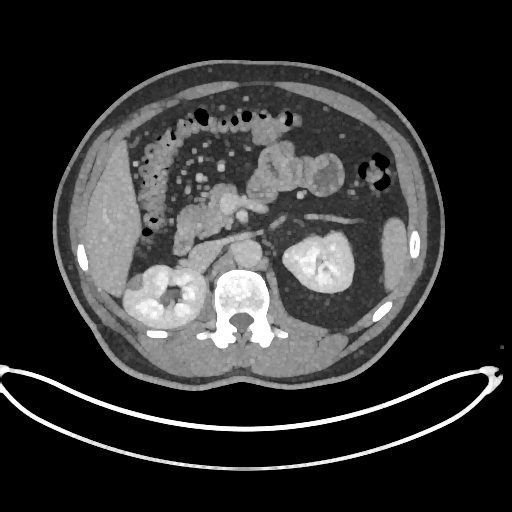Lesion: (124, 273, 146, 292)
